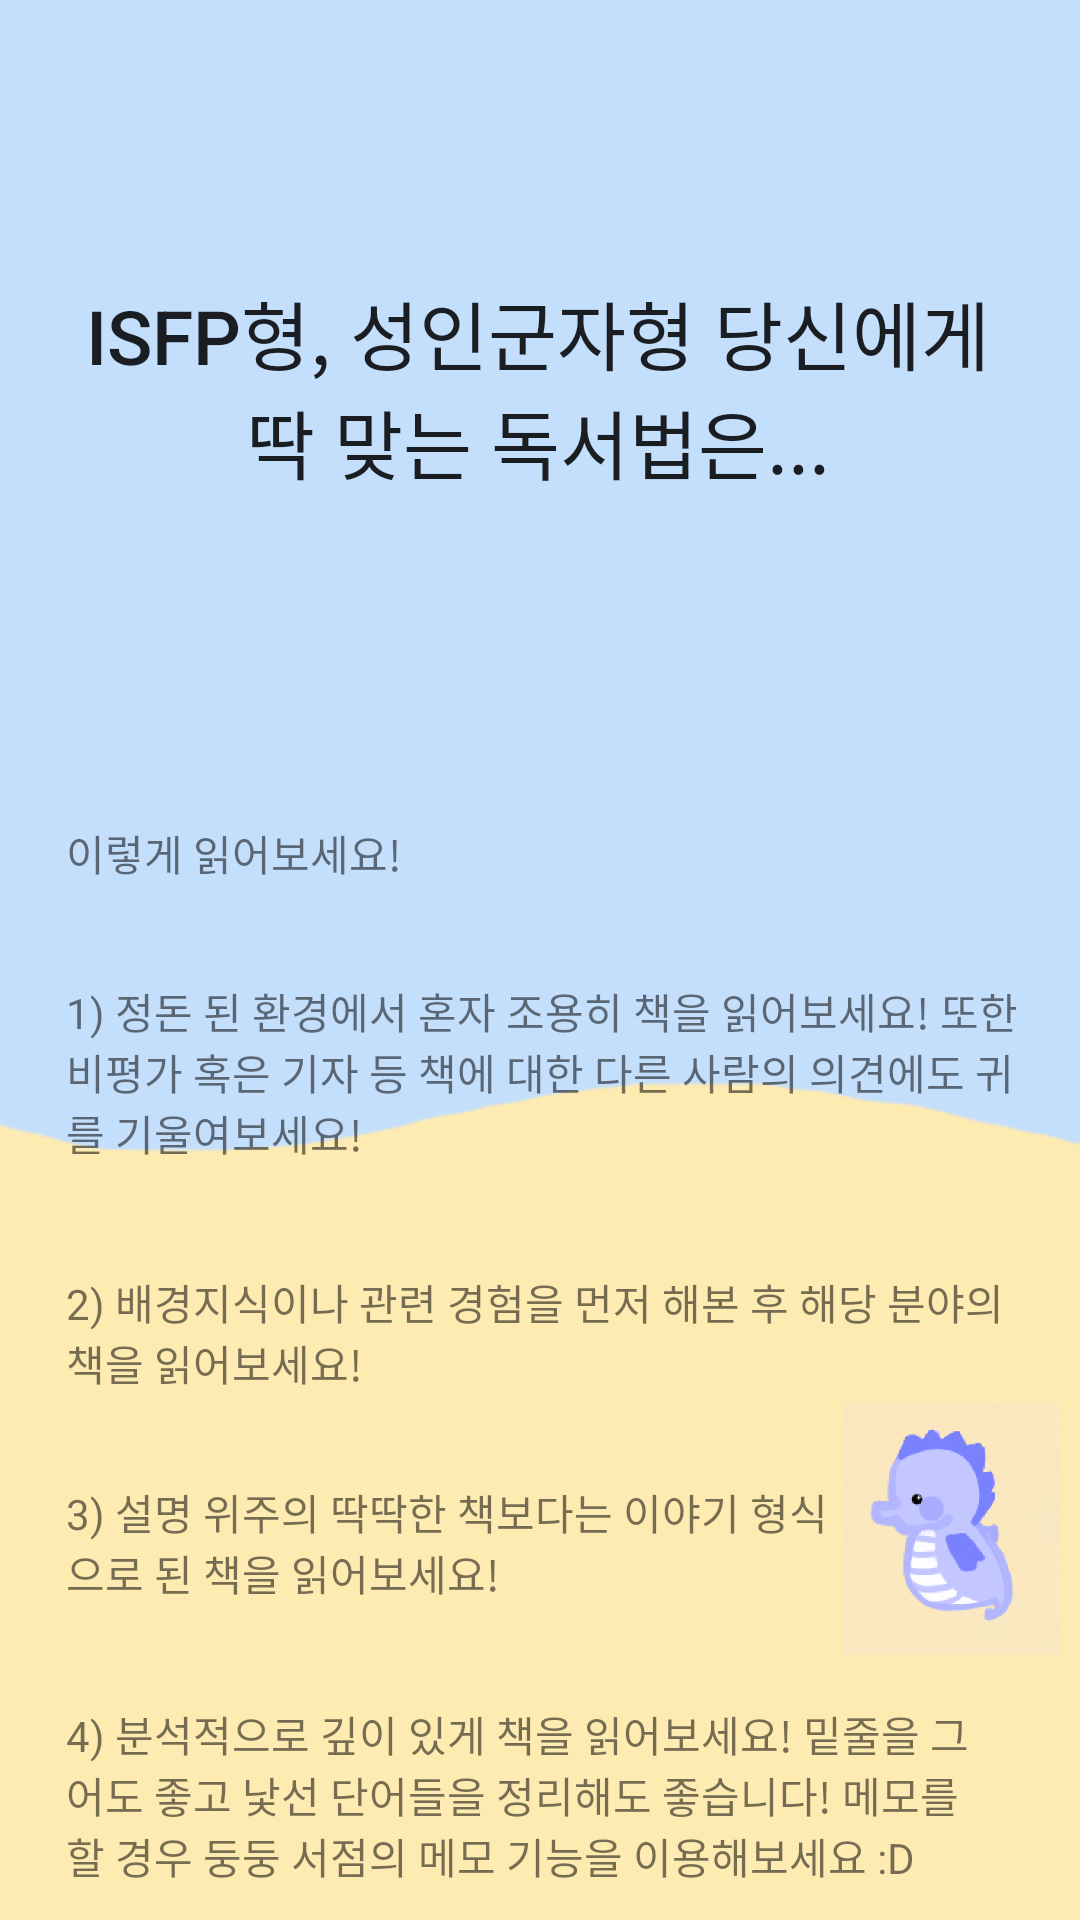

Screen size 1080 × 1920. Icon name, then its center in pixels as point (x, y):
seahorse: point (941, 1525)
